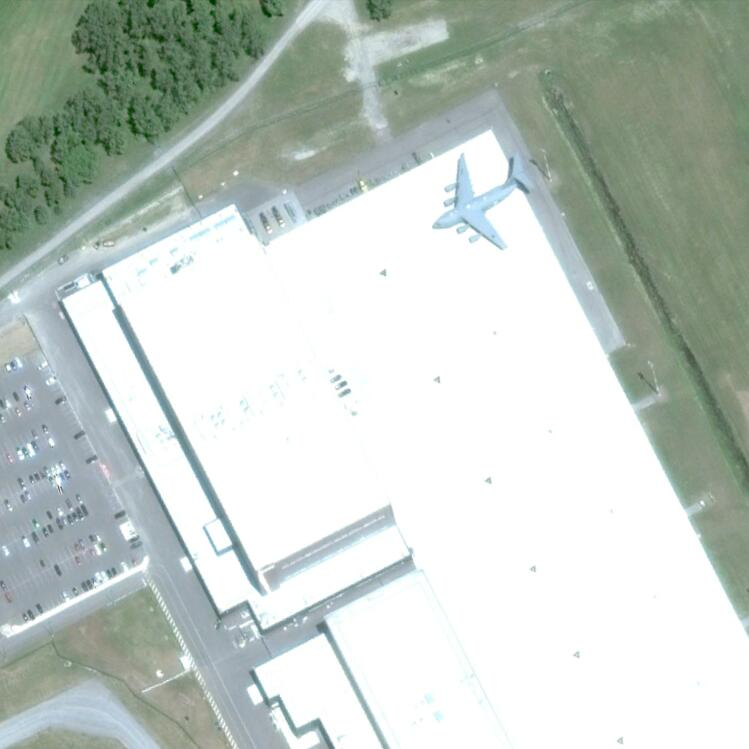A3: (430, 153, 532, 252)
